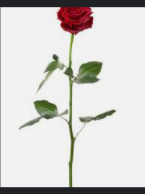RedRose: (56, 7, 95, 34)
